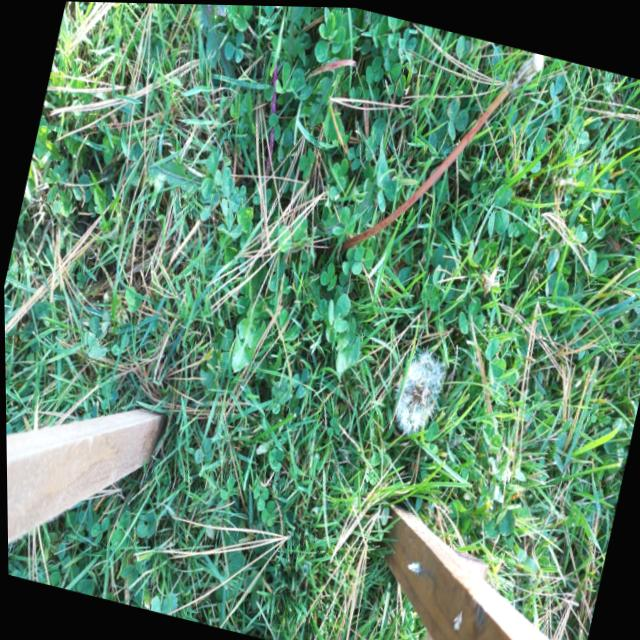base: (326, 220, 362, 267)
